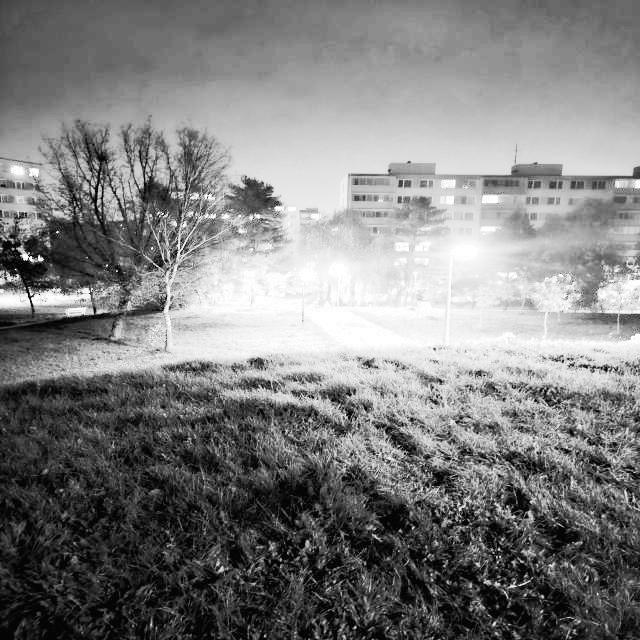Light: (443, 246, 472, 345), (300, 271, 311, 324), (334, 267, 342, 307), (247, 271, 255, 307), (269, 277, 276, 308)
